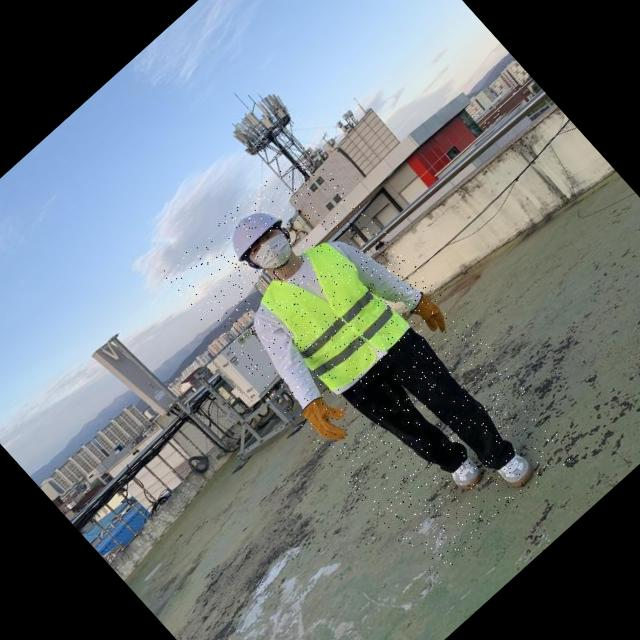hard_hat: (218, 198, 284, 263)
safety_vest: (249, 231, 412, 396)
vehicle: (159, 142, 581, 580)
work_boots: (494, 449, 540, 494), (447, 456, 487, 495)
